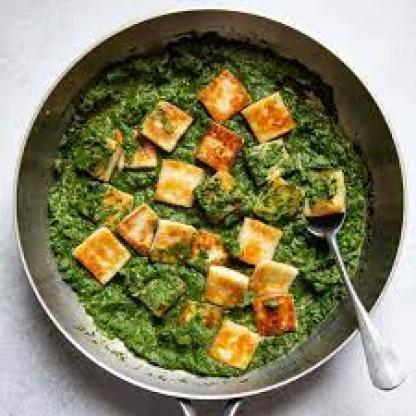palak_paneer: (48, 34, 370, 377)
